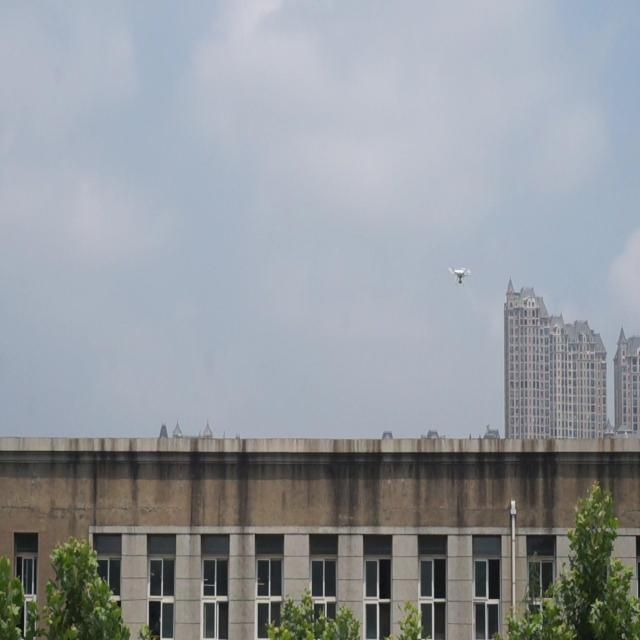drone: (448, 262, 474, 288)
